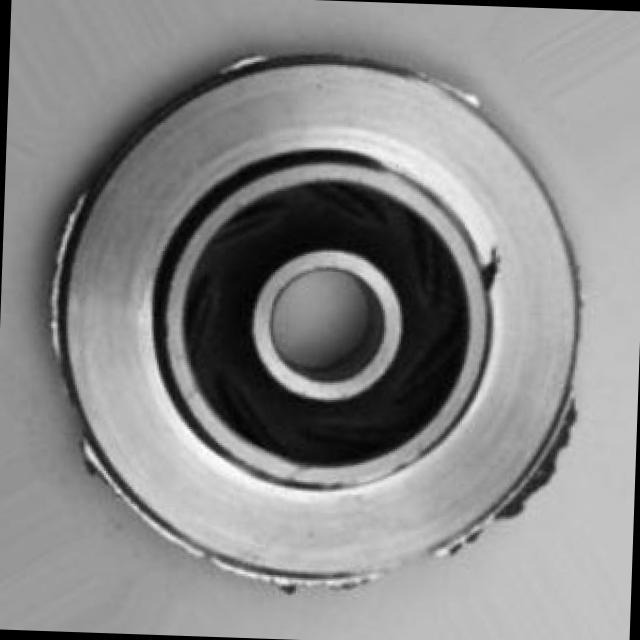Defect: (522, 409, 571, 503)
